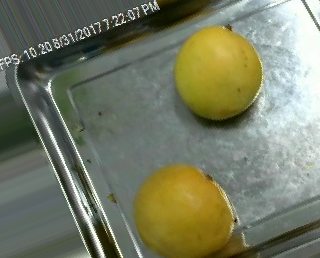Mango: (128, 158, 237, 255), (170, 20, 267, 117)
